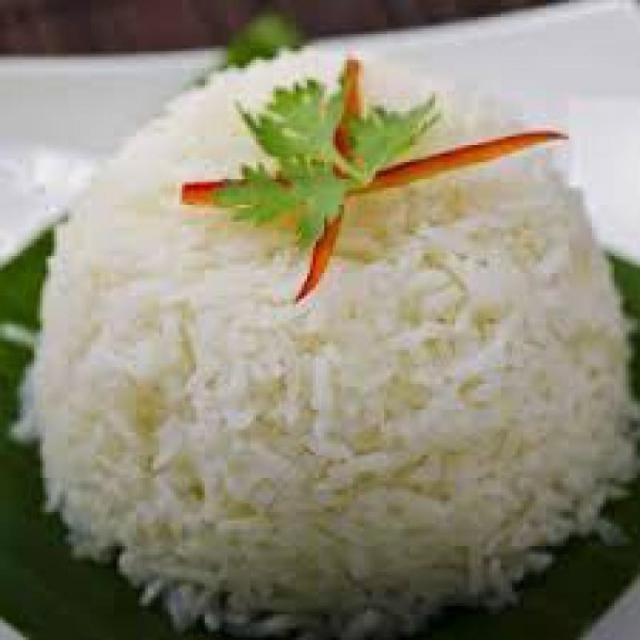nasi_putih: (20, 57, 637, 638)
